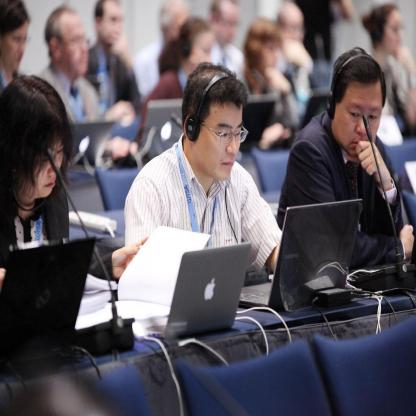board: (238, 198, 362, 311), (0, 238, 96, 374), (160, 235, 260, 343), (269, 91, 331, 151), (139, 102, 184, 165), (70, 122, 117, 167), (243, 96, 278, 154)
